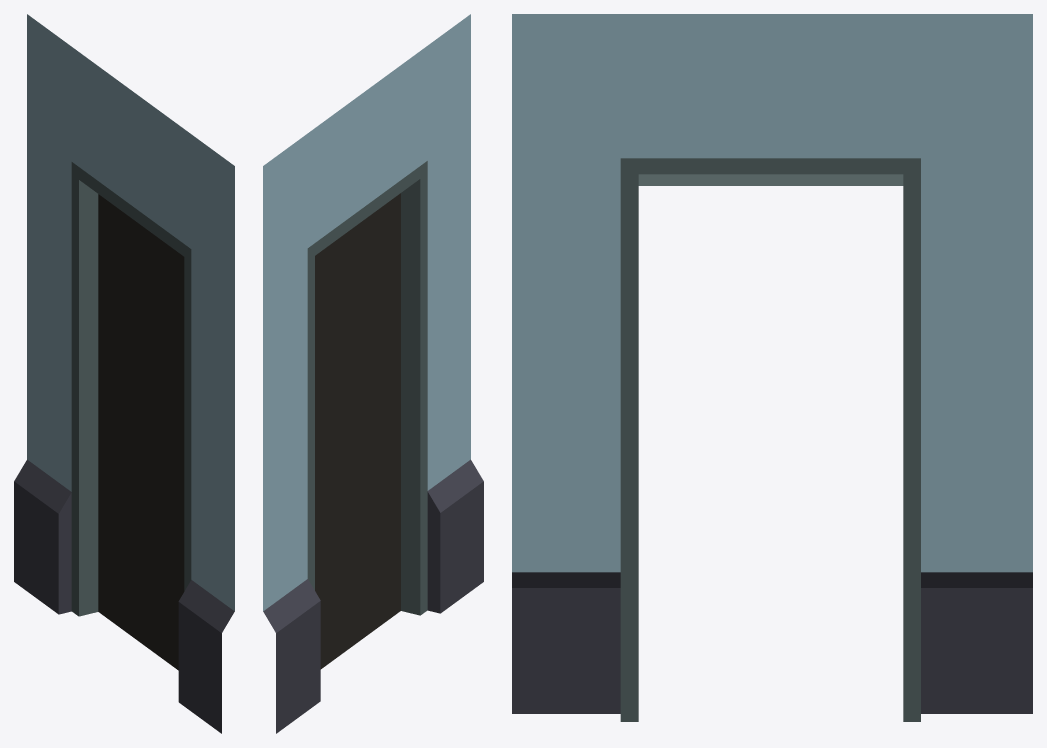
Rendered from B1_wall_bottom_door.FBX.
3 views of the same model, side by side, from view 1: azimuth 30°, elevation 25°; view 2: azimuth 150°, elevation 25°; view 3: azimuth 270°, elevation 25° (orthographic). The views are drawn at different scales.
Parts seen in each view (by area): view 1: B1_wall_bottom_door; view 2: B1_wall_bottom_door; view 3: B1_wall_bottom_door.
Boxes of the visible parts, <box> form: B1_wall_bottom_door: <box>14,14,234,733</box>; B1_wall_bottom_door: <box>263,14,483,733</box>; B1_wall_bottom_door: <box>512,14,1032,721</box>.
Size of the model in its own units: 18.05 by 300 by 200.
